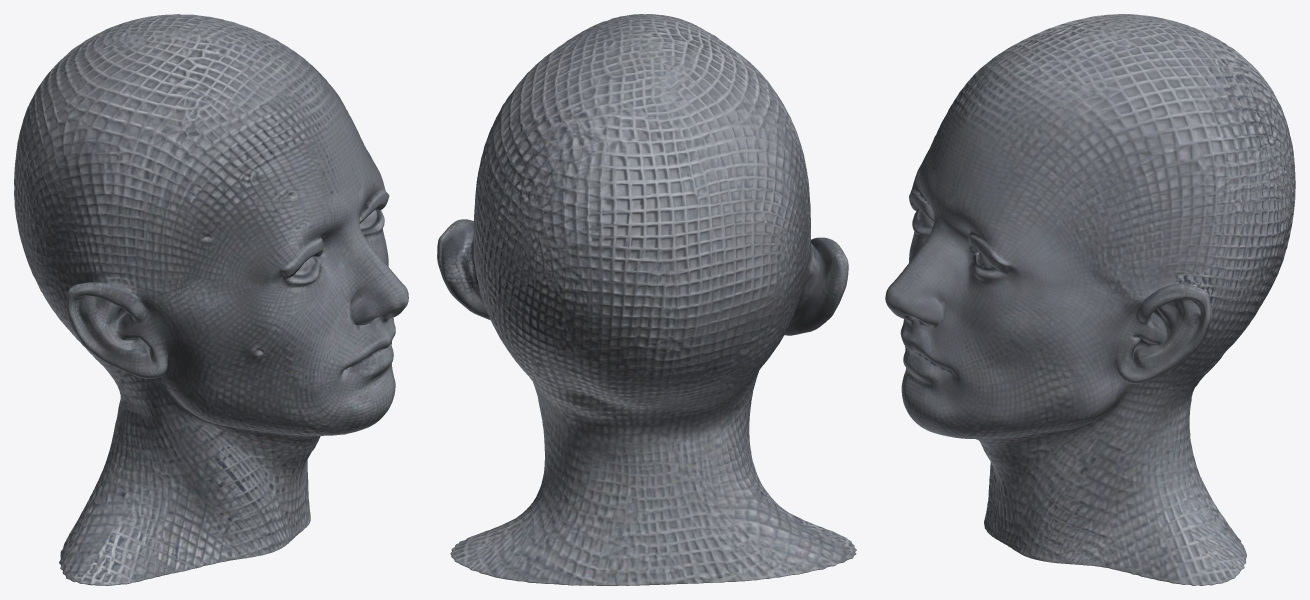
Rendered from head.glb.
3 views of the same model, side by side, from view 1: azimuth 30°, elevation 25°; view 2: azimuth 150°, elevation 25°; view 3: azimuth 270°, elevation 25° (orthographic). The views are drawn at different scales.
Parts seen in each view (by area): view 1: tripo_node_42b62854-7658-4e94-97e7-68fdc9abeae3; view 2: tripo_node_42b62854-7658-4e94-97e7-68fdc9abeae3; view 3: tripo_node_42b62854-7658-4e94-97e7-68fdc9abeae3.
Boxes of the visible parts, x1,y1,x2,y2 form: tripo_node_42b62854-7658-4e94-97e7-68fdc9abeae3: [14, 14, 408, 585]; tripo_node_42b62854-7658-4e94-97e7-68fdc9abeae3: [437, 14, 856, 585]; tripo_node_42b62854-7658-4e94-97e7-68fdc9abeae3: [885, 14, 1295, 585].
Size of the model in its own units: 0.6805 by 1 by 0.7599.
Materials: 1 (1 with a texture image).
